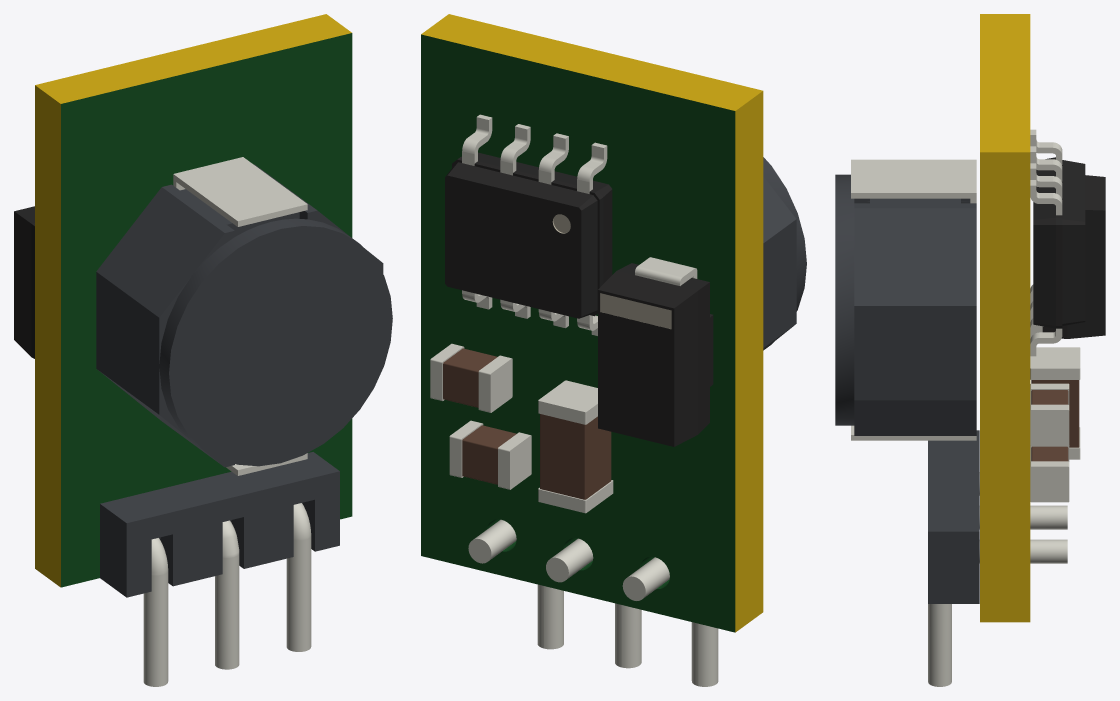
The model's file is kc-converter_dcdc_murata_oki-78sr_vertical.glb.
3 views of the same model, side by side, from view 1: azimuth 30°, elevation 25°; view 2: azimuth 150°, elevation 25°; view 3: azimuth 270°, elevation 25° (orthographic). The views are drawn at different scales.
Visible parts, largest first — view 1: 0.08333333333333333_0.08333333333333333_0.08333333333333333_, 0_0.08333333333333333_0_0, 0.6666666666666666_0.4166666666666667_0_0, 0.6666666666666666_0.6666666666666666_0.5833333333333334_0.8, 0_0_0_0; view 2: 0_0.08333333333333333_0_0, 0_0_0_0, 0.6666666666666666_0.4166666666666667_0_0, 0.6666666666666666_0.6666666666666666_0.5833333333333334_0.8, 0.08333333333333333_0.08333333333333333_0_0, 0.08333333333333333_0.08333333333333333_0.08333333333333333_, 0.4166666666666667_0.4166666666666667_0.3333333333333333_0; view 3: 0.08333333333333333_0.08333333333333333_0.08333333333333333_, 0.6666666666666666_0.4166666666666667_0_0, 0.6666666666666666_0.6666666666666666_0.5833333333333334_0.8, 0_0_0_0, 0.08333333333333333_0.08333333333333333_0_0.
Part boxes in pixels (x1,y1,x2,y2): 0.08333333333333333_0.08333333333333333_0.08333333333333333_: (96,164,392,597); 0_0.08333333333333333_0_0: (61,33,352,587); 0.6666666666666666_0.4166666666666667_0_0: (35,14,351,587); 0.6666666666666666_0.6666666666666666_0.5833333333333334_0.8: (143,157,311,686); 0_0_0_0: (14,206,34,358); 0_0.08333333333333333_0_0: (421,34,735,632); 0_0_0_0: (445,152,713,446); 0.6666666666666666_0.4166666666666667_0_0: (421,14,763,632); 0.6666666666666666_0.6666666666666666_0.5833333333333334_0.8: (430,114,718,686); 0.08333333333333333_0.08333333333333333_0_0: (443,348,611,499); 0.08333333333333333_0.08333333333333333_0.08333333333333333_: (763,157,806,350); 0.4166666666666667_0.4166666666666667_0.3333333333333333_0: (552,214,671,329); 0.08333333333333333_0.08333333333333333_0.08333333333333333_: (835,174,979,603); 0.6666666666666666_0.4166666666666667_0_0: (980,14,1030,622); 0.6666666666666666_0.6666666666666666_0.5833333333333334_0.8: (851,129,1080,686); 0_0_0_0: (1033,157,1105,338); 0.08333333333333333_0.08333333333333333_0_0: (1031,380,1079,461).
Bounding box in the file's own units: 1.04 × 1.98 × 0.86.
